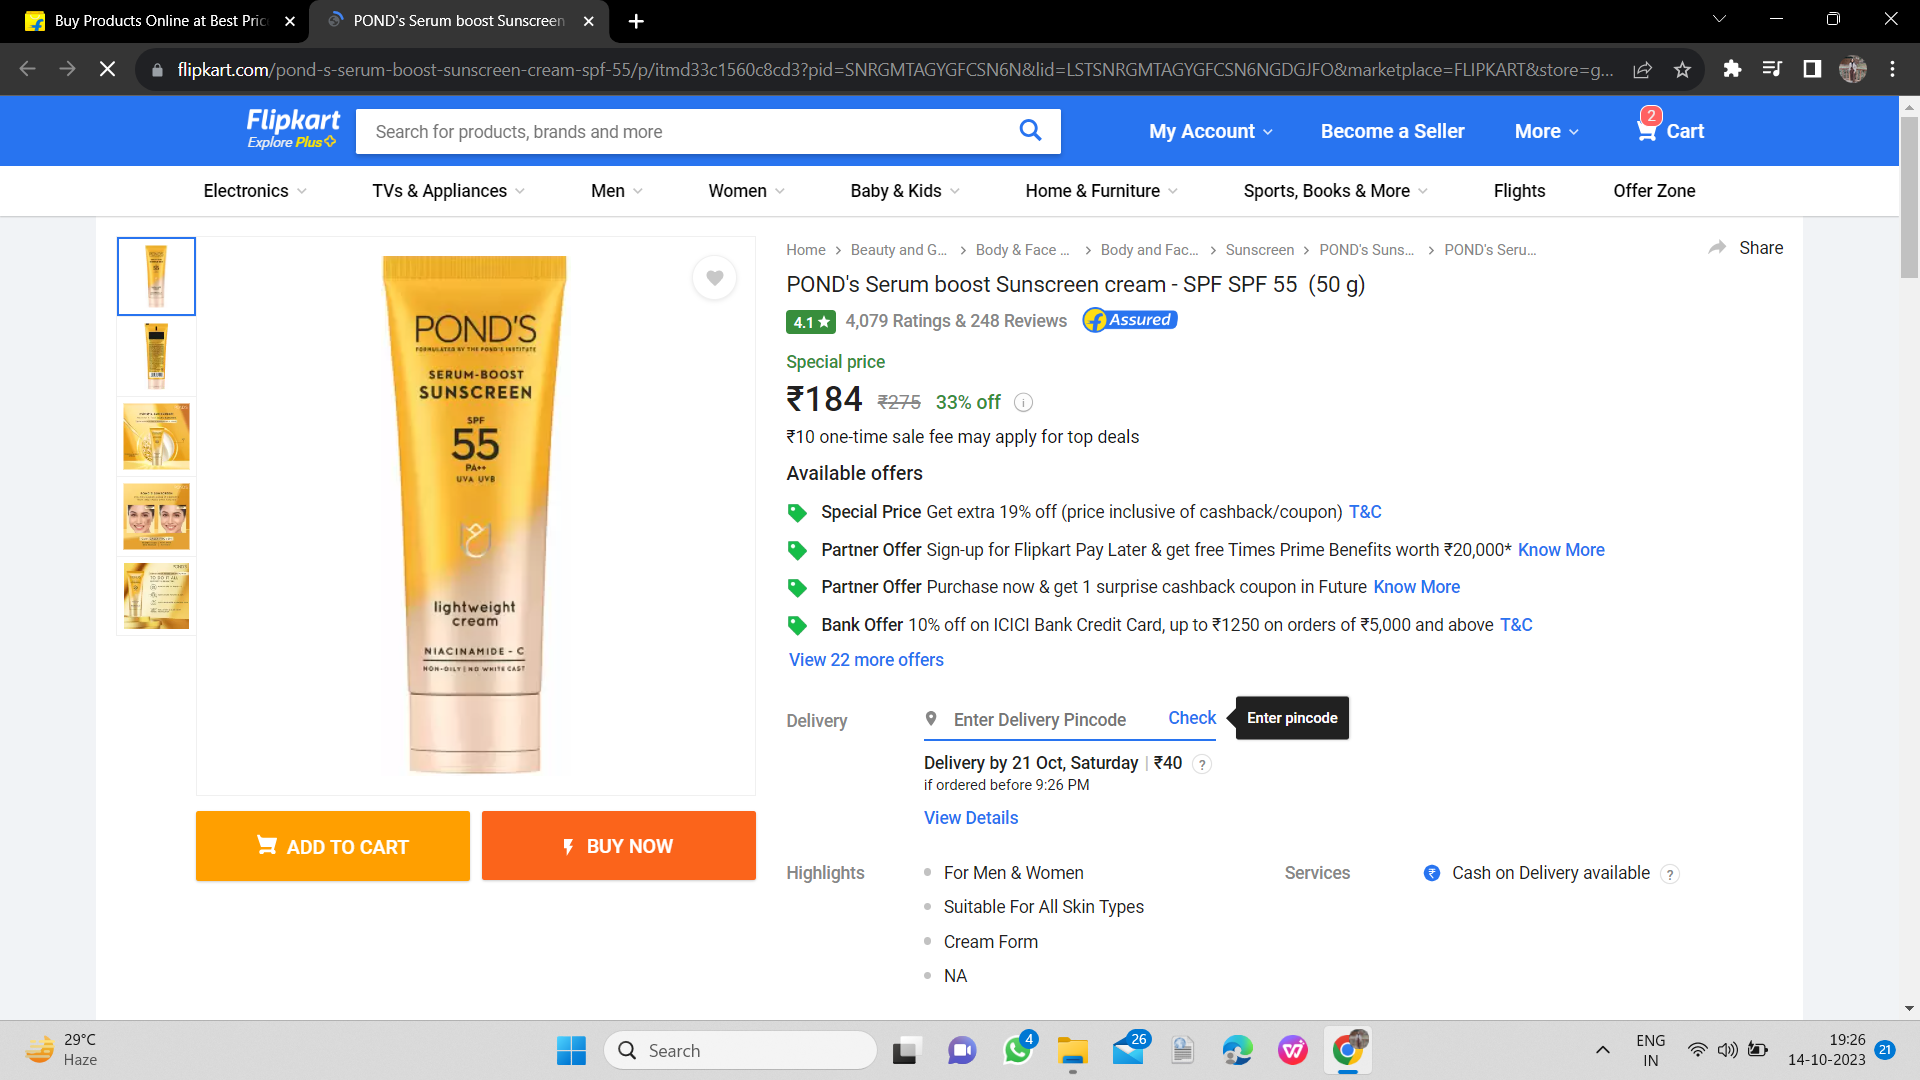Image: (237, 239, 756, 789)
Paragraph: (778, 493, 1613, 676), (160, 806, 782, 901), (778, 352, 1151, 448), (913, 852, 1162, 993), (766, 690, 1373, 745), (1126, 103, 1709, 160), (778, 276, 1382, 297), (1418, 851, 1655, 899), (775, 303, 1192, 328), (903, 748, 1151, 773), (775, 459, 945, 489), (779, 852, 869, 882), (1278, 856, 1358, 886)
